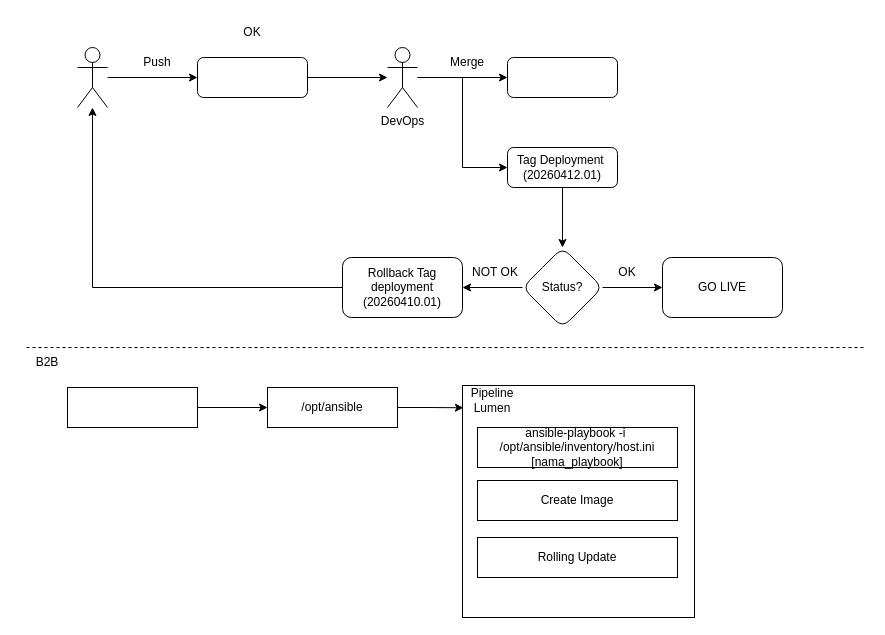
Some shapes in this 885 by 635 pixel diagram are drawn without their labels. Each missing label, with the centre of its shape:
"Buat ansible playbook" goes at [132,407].
"Developer" goes at [92,77].
"Master" goes at [562,77].
"Staging_m4nd4" goes at [252,77].
